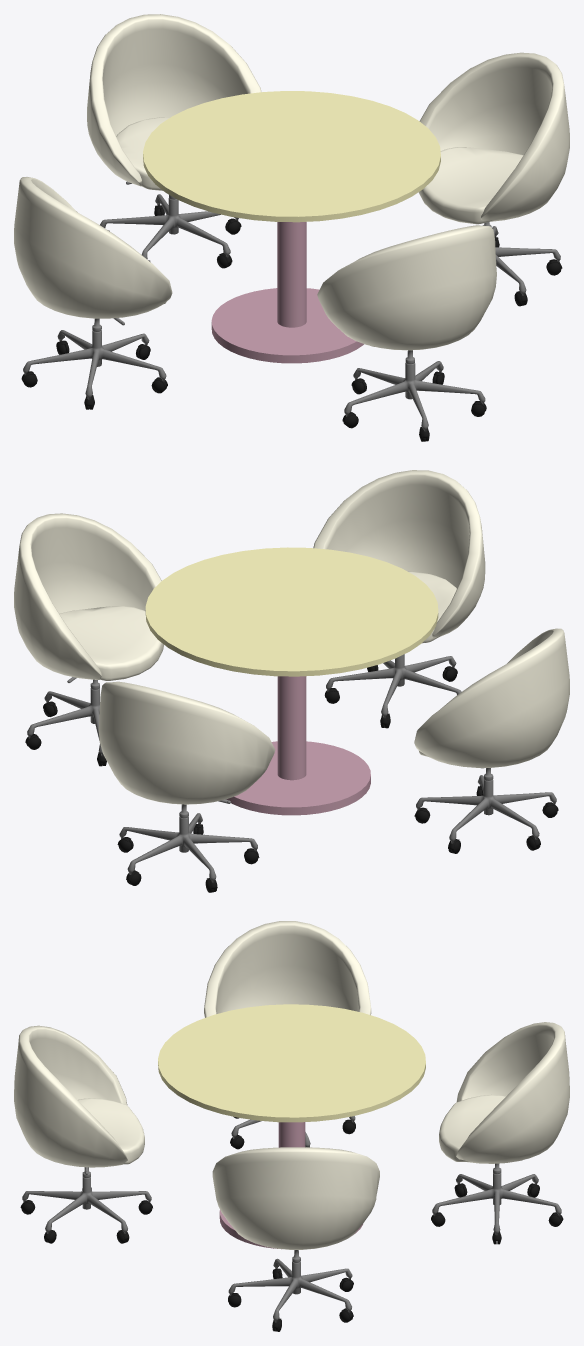
File: product.fbx
The picture shows the model from 3 angles, top to bottom: view 1: azimuth 30°, elevation 25°; view 2: azimuth 150°, elevation 25°; view 3: azimuth 270°, elevation 25°; orthographic projection. The views are drawn at different scales.
Parts seen in each view (by area): view 1: Box001; view 2: Box001; view 3: Box001.
Boxes of the visible parts, <box> form: Box001: <box>14,14,569,441</box>; Box001: <box>14,470,569,892</box>; Box001: <box>14,921,569,1331</box>.
Size of the model in its own units: 207 by 75.63 by 207.
